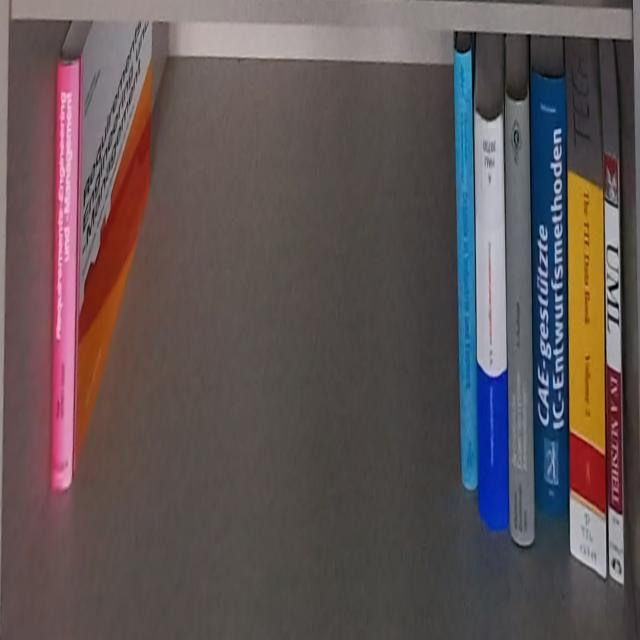Book Spine: (530, 66, 568, 513), (569, 170, 606, 581), (474, 110, 508, 530), (506, 90, 535, 548), (51, 56, 80, 492), (454, 48, 478, 491), (603, 154, 624, 583)
